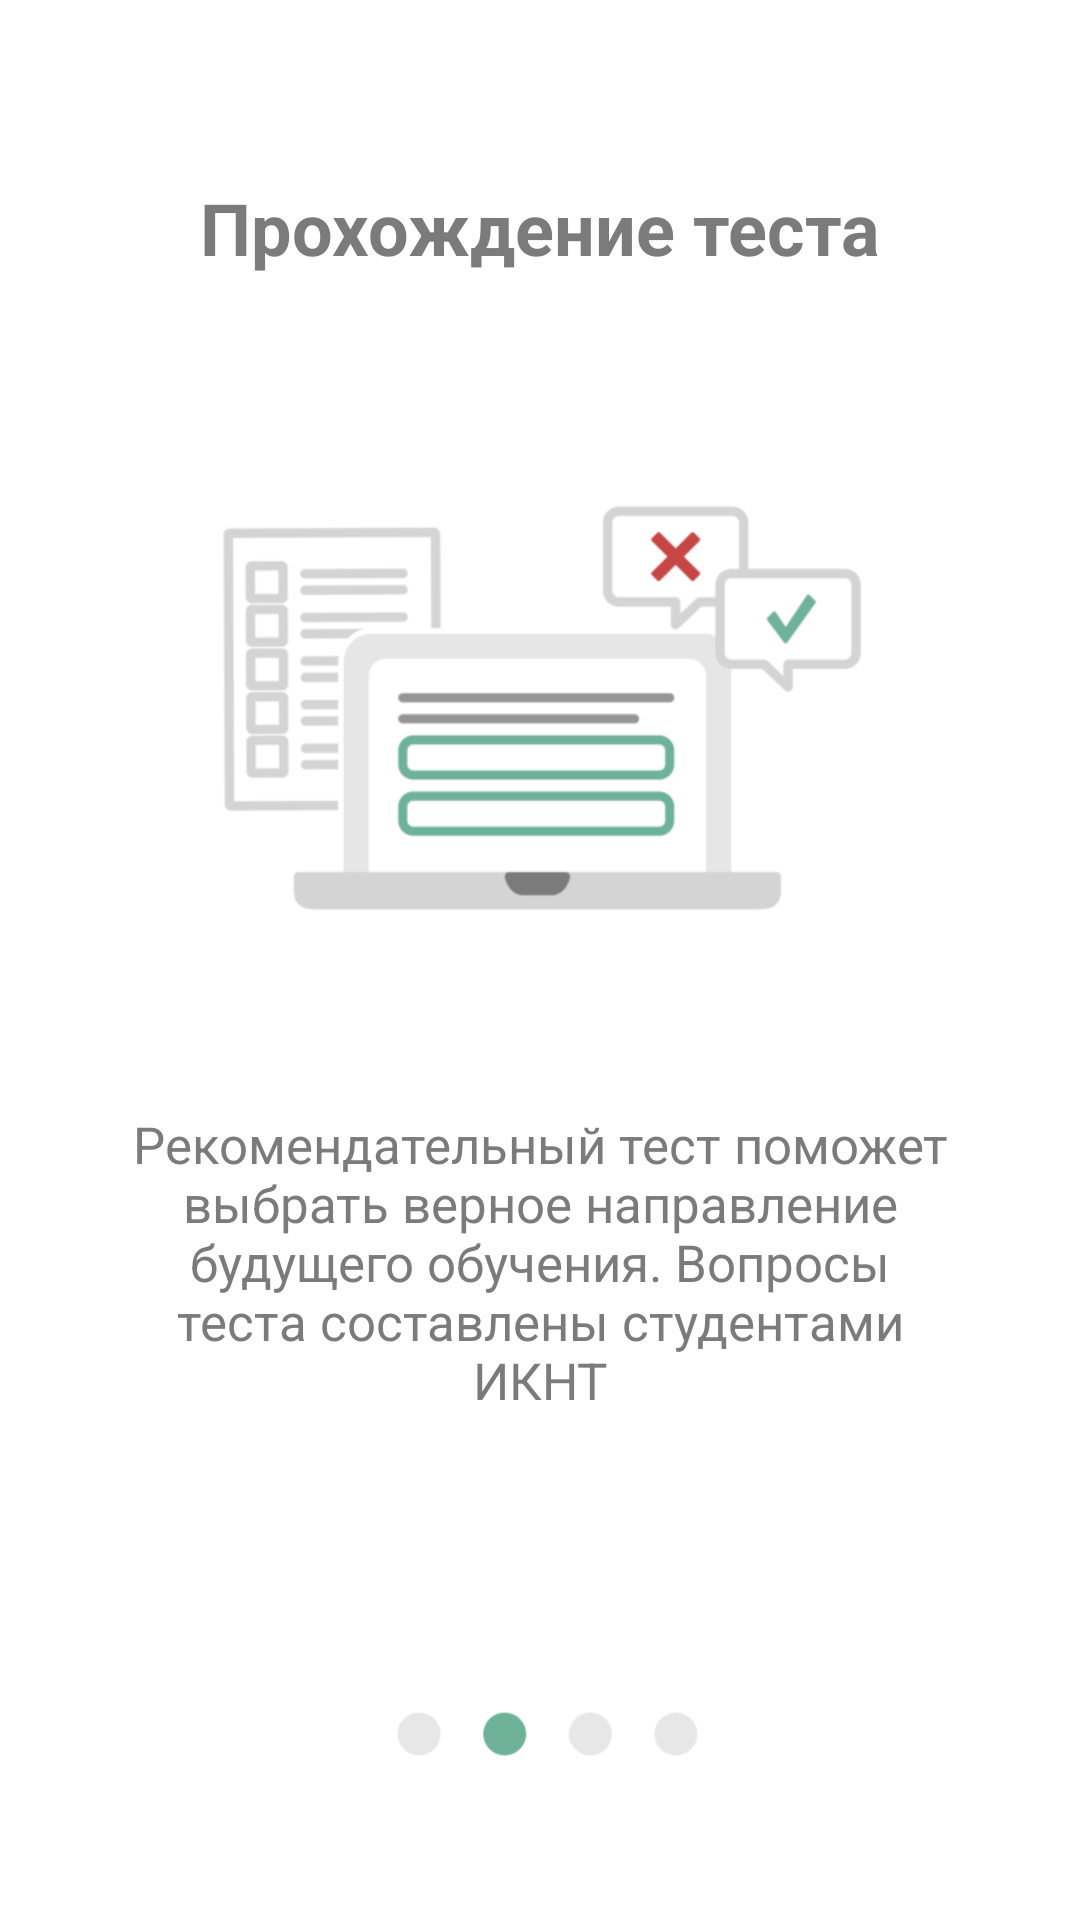

Locate icon controls on the screen. Image size 1080px x 1920px, boxes as (x1, y1, x2, y2).
dots: (483, 1712, 656, 1756)
